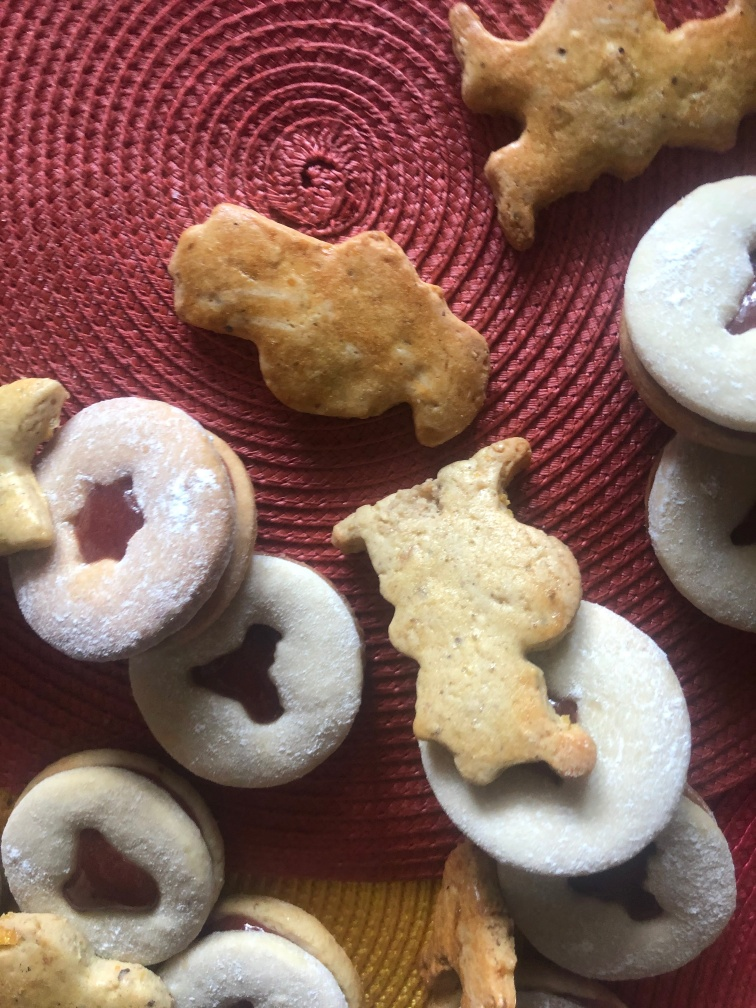christmas shortbread with jam: (419, 595, 691, 873), (143, 544, 362, 789), (59, 398, 254, 655), (4, 757, 208, 957), (623, 173, 755, 434), (529, 815, 735, 974), (204, 904, 359, 1008)
santa claus: (330, 430, 601, 791), (166, 200, 491, 452), (452, 4, 756, 238)
